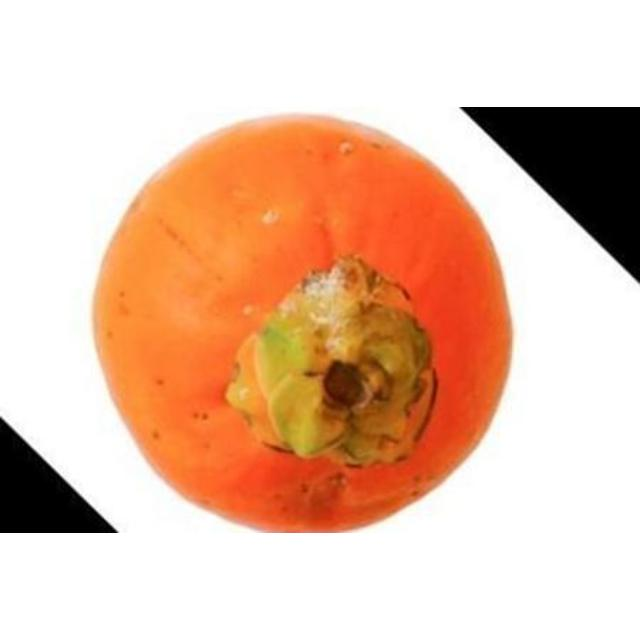good: (88, 114, 518, 532)
